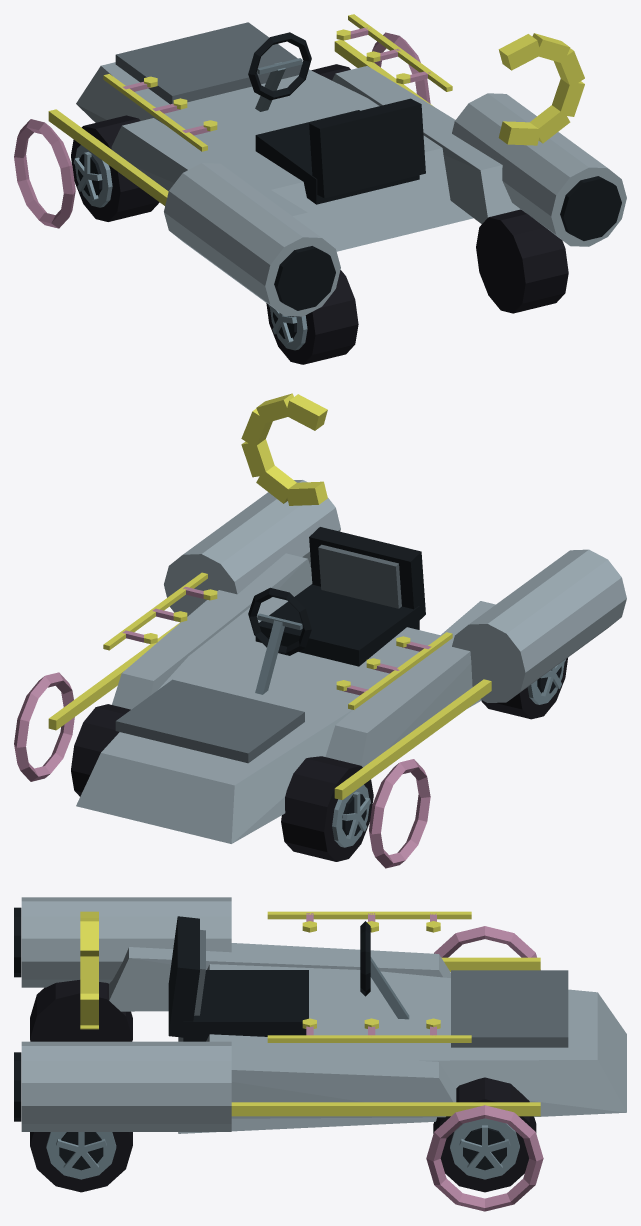
The model's file is kart.glb.
3 renders of one model, top to bottom at view 1: azimuth 30°, elevation 25°; view 2: azimuth 150°, elevation 25°; view 3: azimuth 270°, elevation 25°, orthographic. The views are drawn at different scales.
Parts seen in each view (by area): view 1: identity-speeder-speeder-long-cowl-and-stern-turbines, identity-speeder-driver-cockpit, wheel-rear-right, identity-speeder-motif-neon, identity-speeder-motif-moon, wheel-rear-left, wheel-front-left, identity-speeder-motif-circuit; view 2: identity-speeder-speeder-long-cowl-and-stern-turbines, identity-speeder-driver-cockpit, identity-speeder-motif-neon, wheel-front-left, identity-speeder-motif-moon, identity-speeder-motif-circuit, wheel-front-right, wheel-rear-left; view 3: identity-speeder-speeder-long-cowl-and-stern-turbines, identity-speeder-driver-cockpit, identity-speeder-motif-neon, wheel-front-right, wheel-rear-right, identity-speeder-motif-circuit, wheel-rear-left, identity-speeder-motif-moon.
Part boxes in pixels (x1,y1,x2,y2): identity-speeder-speeder-long-cowl-and-stern-turbines: (76, 22, 626, 316); identity-speeder-driver-cockpit: (248, 32, 425, 204); wheel-rear-right: (476, 209, 568, 313); identity-speeder-motif-neon: (14, 32, 433, 228); identity-speeder-motif-moon: (498, 33, 584, 145); wheel-rear-left: (266, 270, 358, 364); wheel-front-left: (71, 115, 159, 221); identity-speeder-motif-circuit: (103, 14, 452, 151); identity-speeder-speeder-long-cowl-and-stern-turbines: (76, 480, 626, 843); identity-speeder-driver-cockpit: (248, 527, 425, 694); identity-speeder-motif-neon: (14, 622, 491, 868); wheel-front-left: (281, 756, 373, 861); identity-speeder-motif-moon: (241, 393, 327, 505); identity-speeder-motif-circuit: (103, 572, 452, 709); wheel-front-right: (71, 704, 130, 796); wheel-rear-left: (481, 658, 567, 719); identity-speeder-speeder-long-cowl-and-stern-turbines: (14, 897, 626, 1133); identity-speeder-driver-cockpit: (168, 916, 409, 1041); identity-speeder-motif-neon: (231, 926, 543, 1211); wheel-front-right: (433, 1077, 536, 1192); wheel-rear-right: (30, 1132, 132, 1192); identity-speeder-motif-circuit: (267, 911, 471, 1042); wheel-rear-left: (30, 980, 132, 1041); identity-speeder-motif-moon: (80, 911, 98, 1029).
Bounding box in the file's own units: 2.13 × 1.45 × 2.98.
